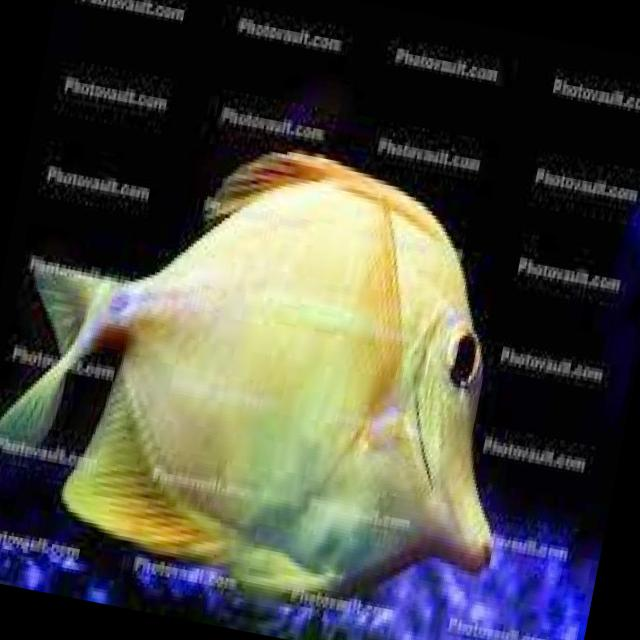YellowTang: (0, 91, 569, 640)
